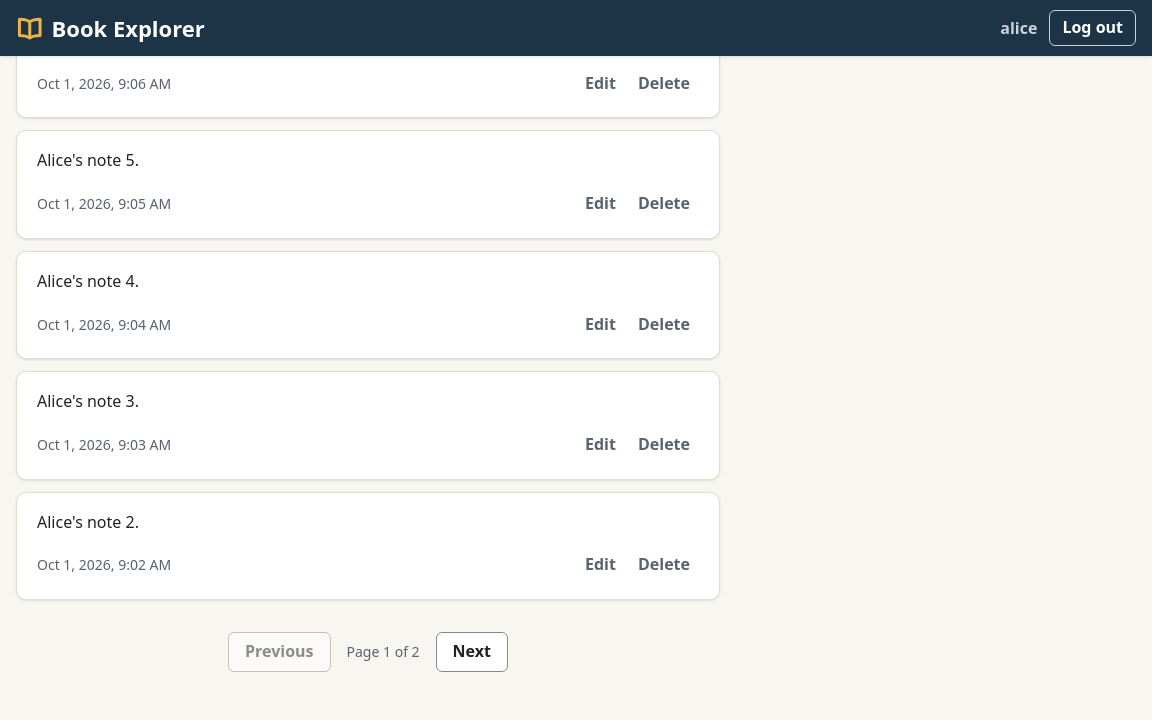
Test: a late answer for the previous reader never shows
(page scrolled)
What coordinates should you click on to do the following:
click the button "Next"
I would click on:
 (472, 652)
Its box is [436, 632, 508, 672].
(page scrolled)
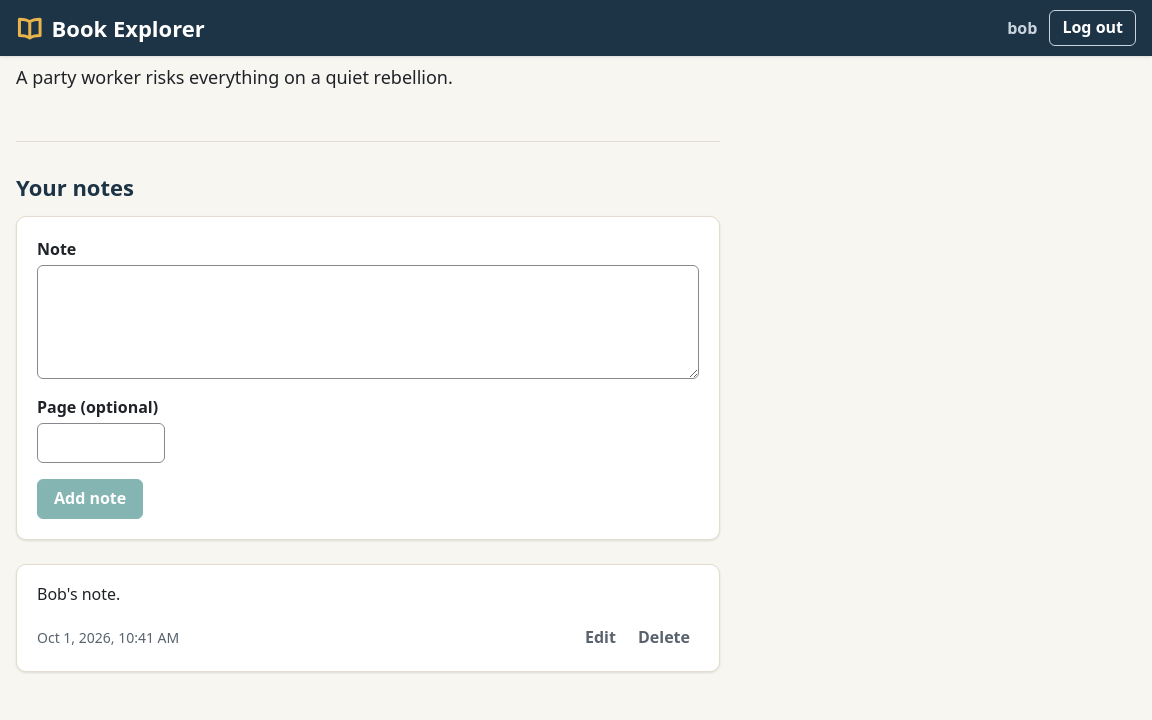
Check: the text "Bob's note." is shown, box [37, 583, 120, 605]
